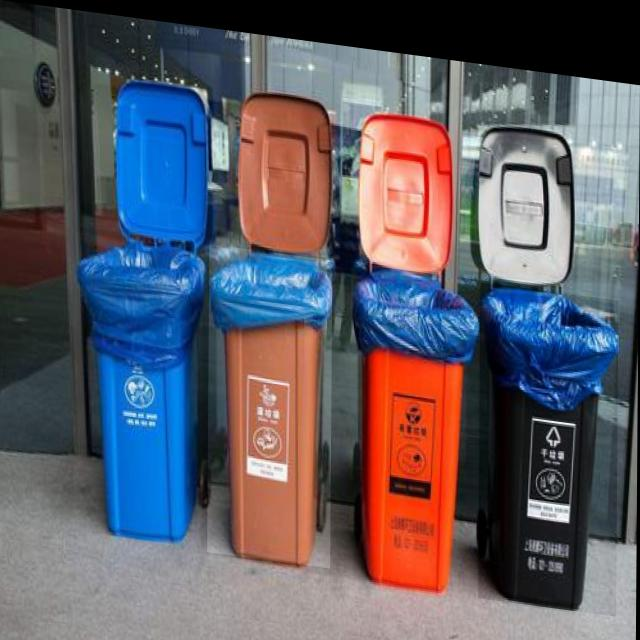garbage_bin: (479, 269, 618, 599), (350, 255, 479, 584), (74, 230, 204, 540), (208, 238, 333, 559)
